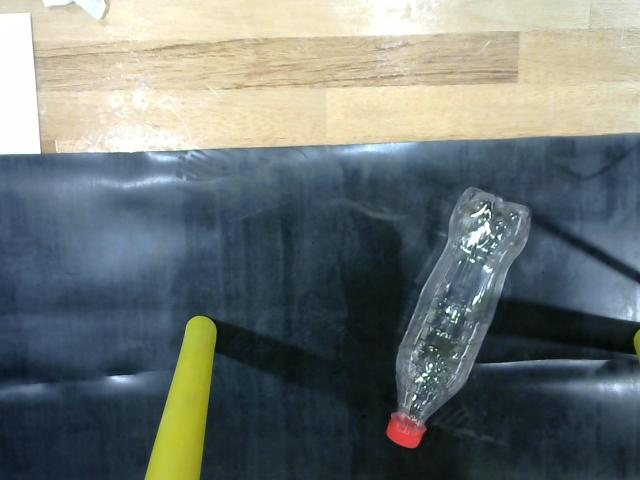bottle: (374, 177, 539, 459)
